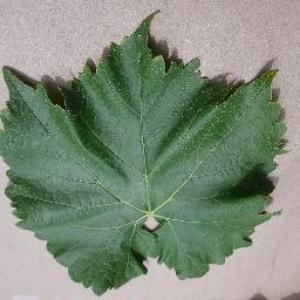Folha: (0, 8, 288, 296)
